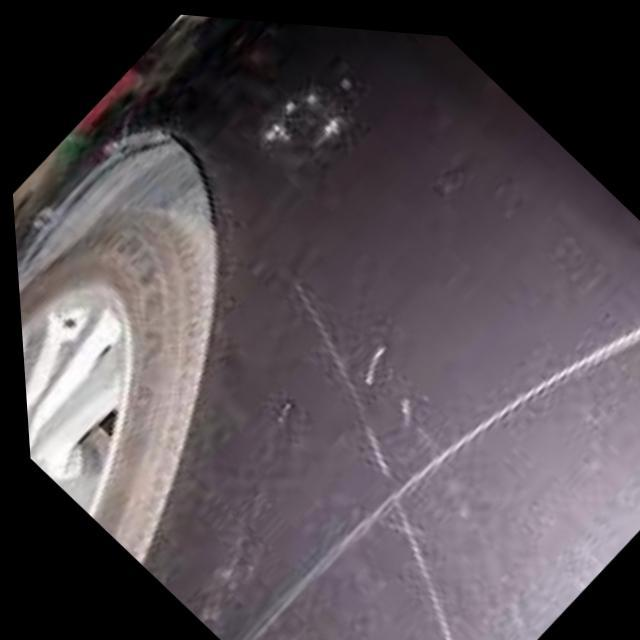rub: (249, 54, 381, 181)
scratch: (241, 231, 540, 640)
